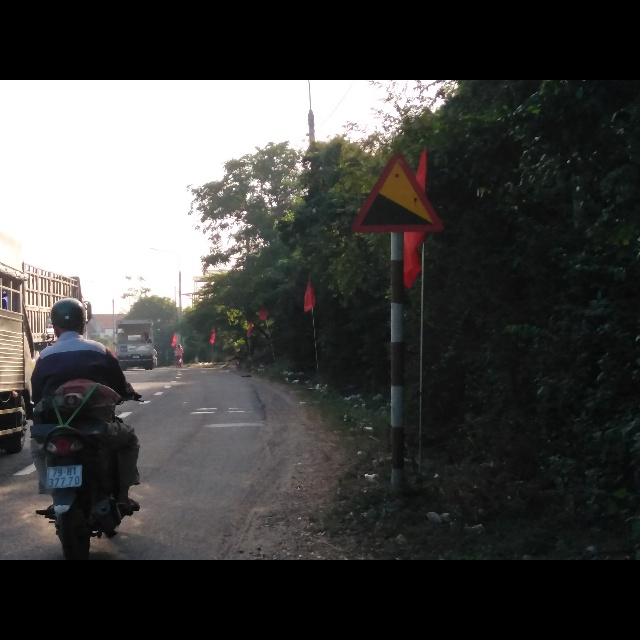Dốc lên nguy hiểm: (353, 146, 444, 233)
